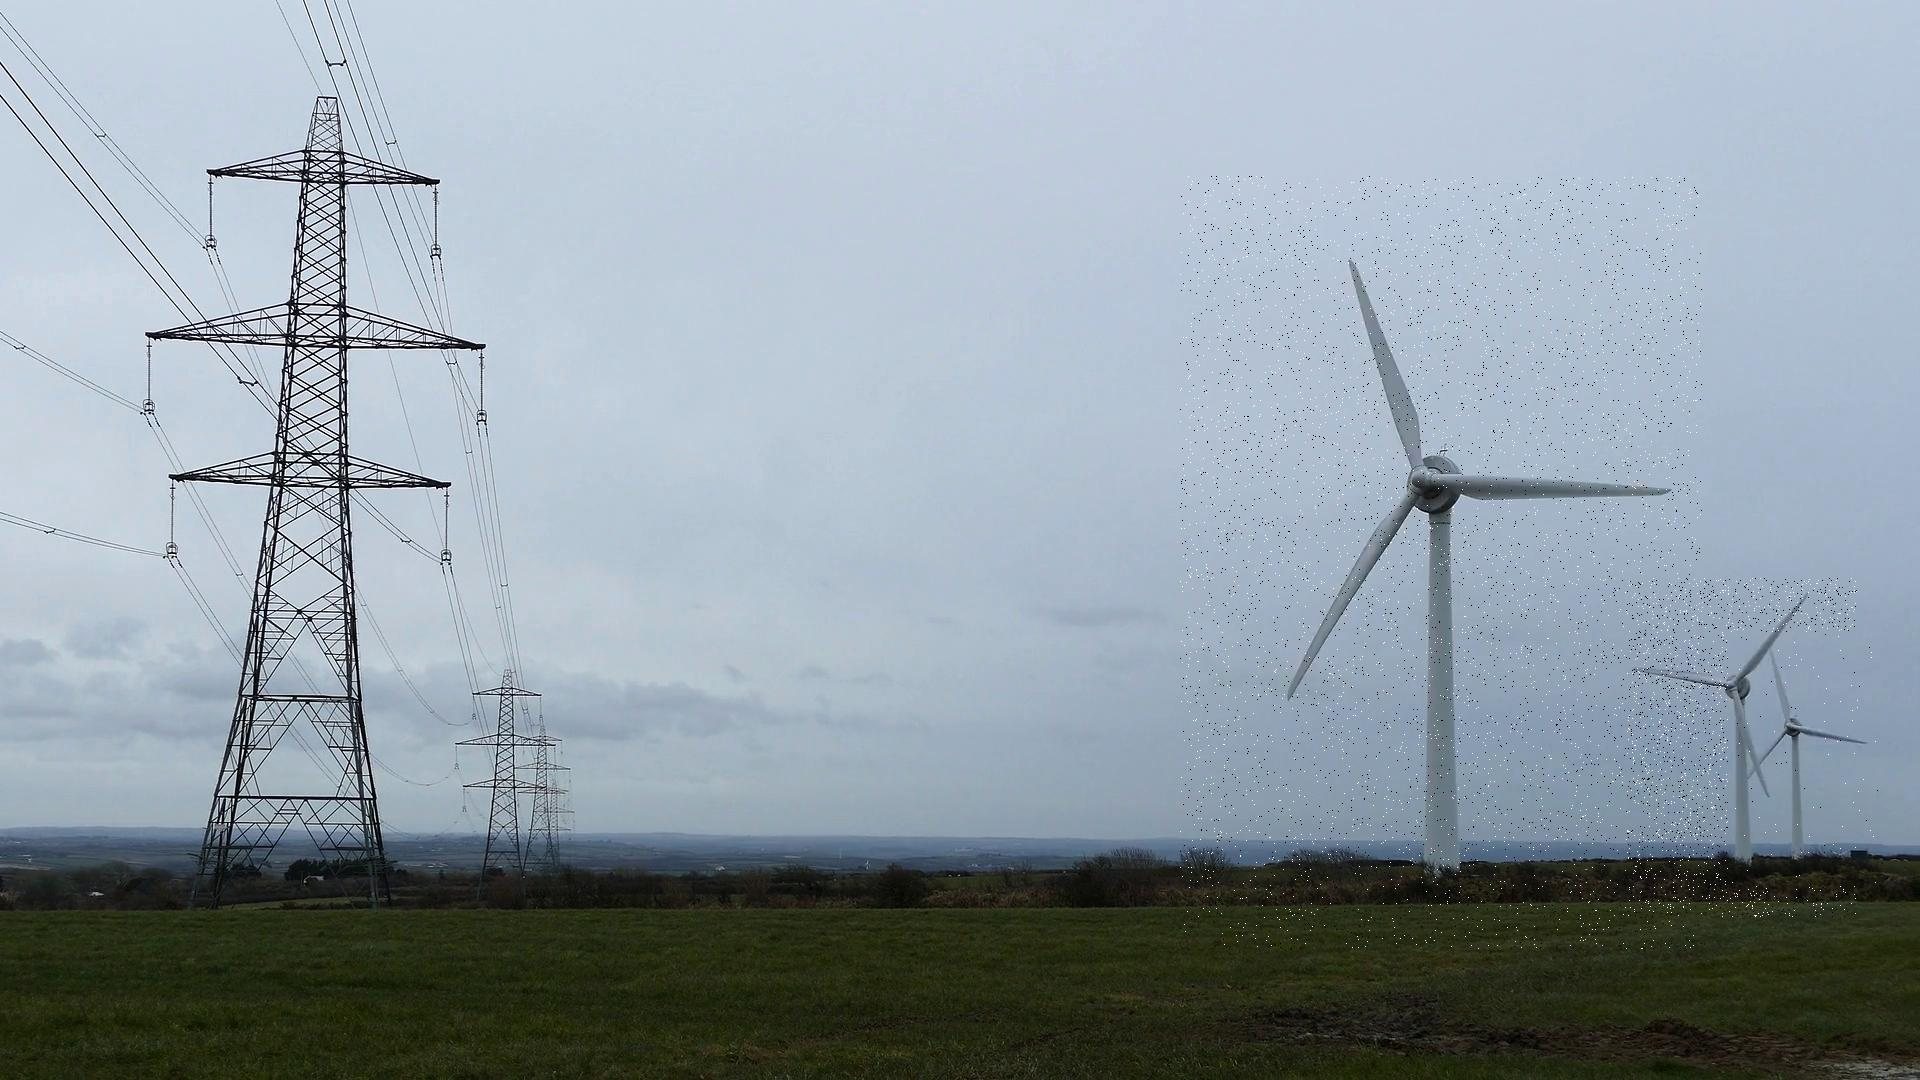cable tower: (145, 96, 489, 914), (451, 667, 556, 901), (514, 727, 571, 884), (538, 779, 574, 872)
turbine: (1180, 175, 1702, 949), (1627, 579, 1857, 918), (1727, 633, 1883, 887)
